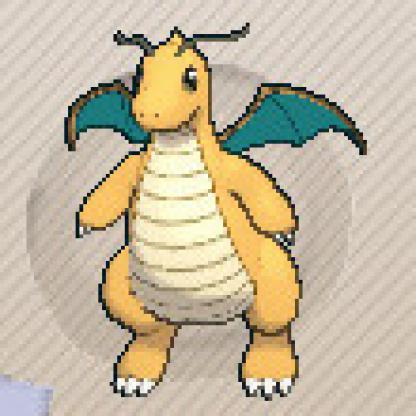Dragonite: (73, 13, 372, 414)
